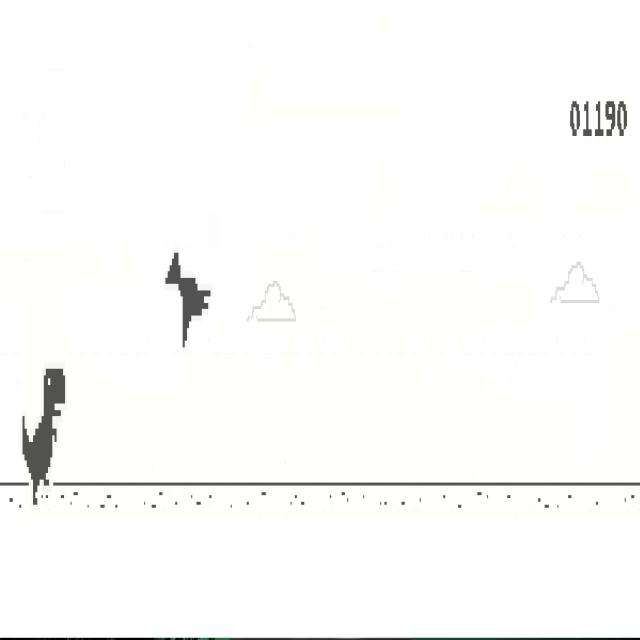dino: (23, 367, 66, 505)
ptero: (165, 252, 211, 347)
